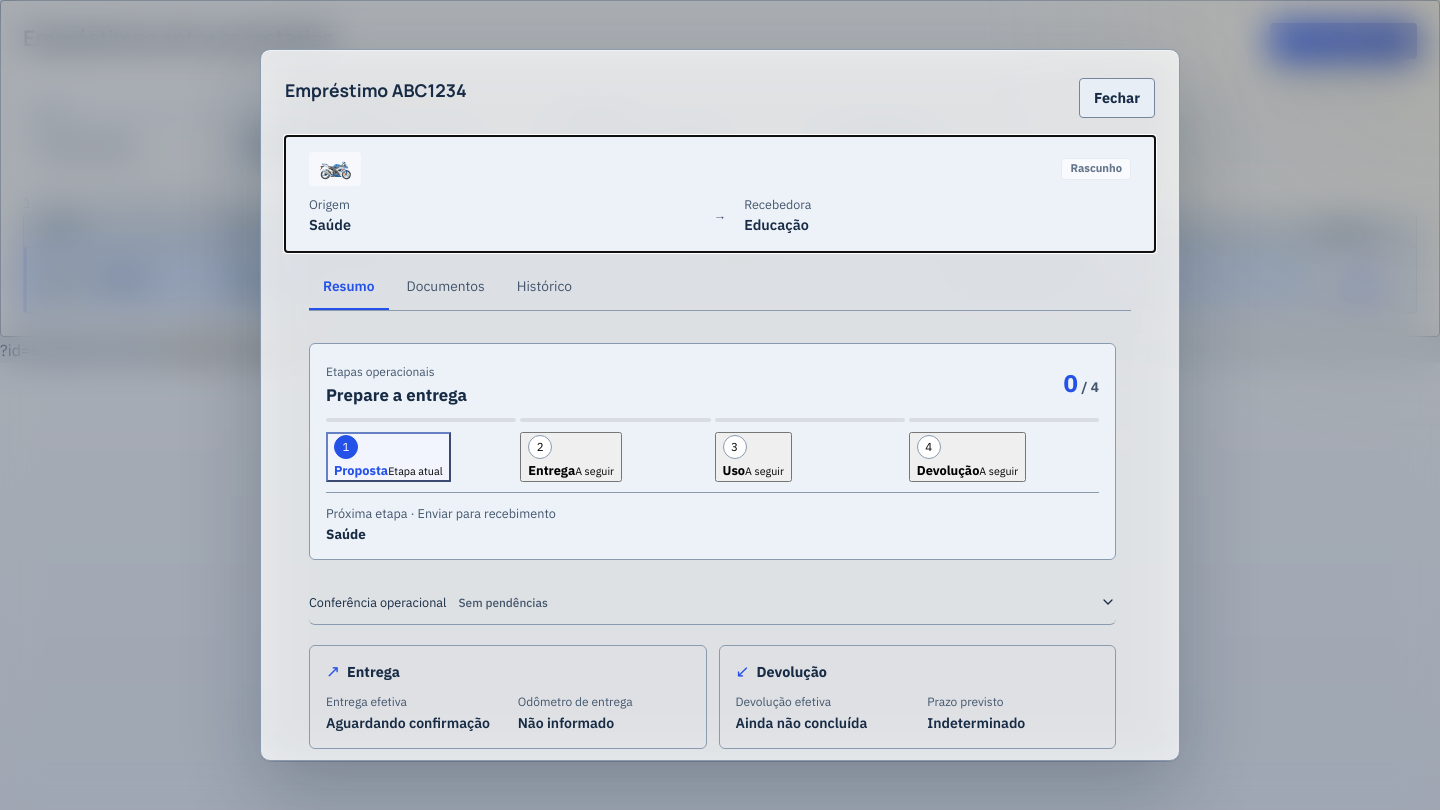
Scenario: ao fechar um link direto devolve o foco à lista e preserva os parâmetros
Click the button "Fechar" at (1117, 98), box [1079, 78, 1155, 118]
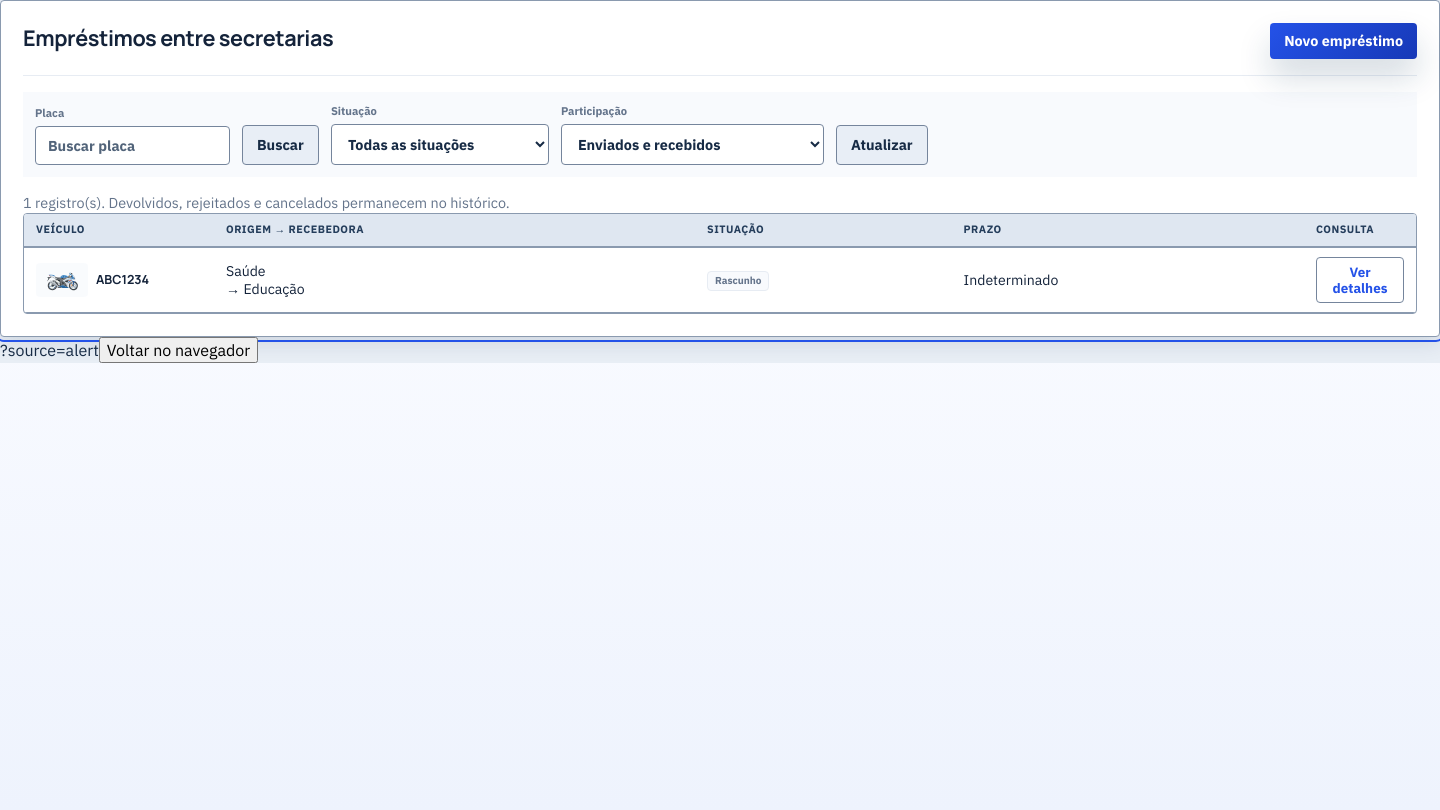
Expected: the text named "URL atual" reads "?source=alert", [0, 340, 99, 360]
